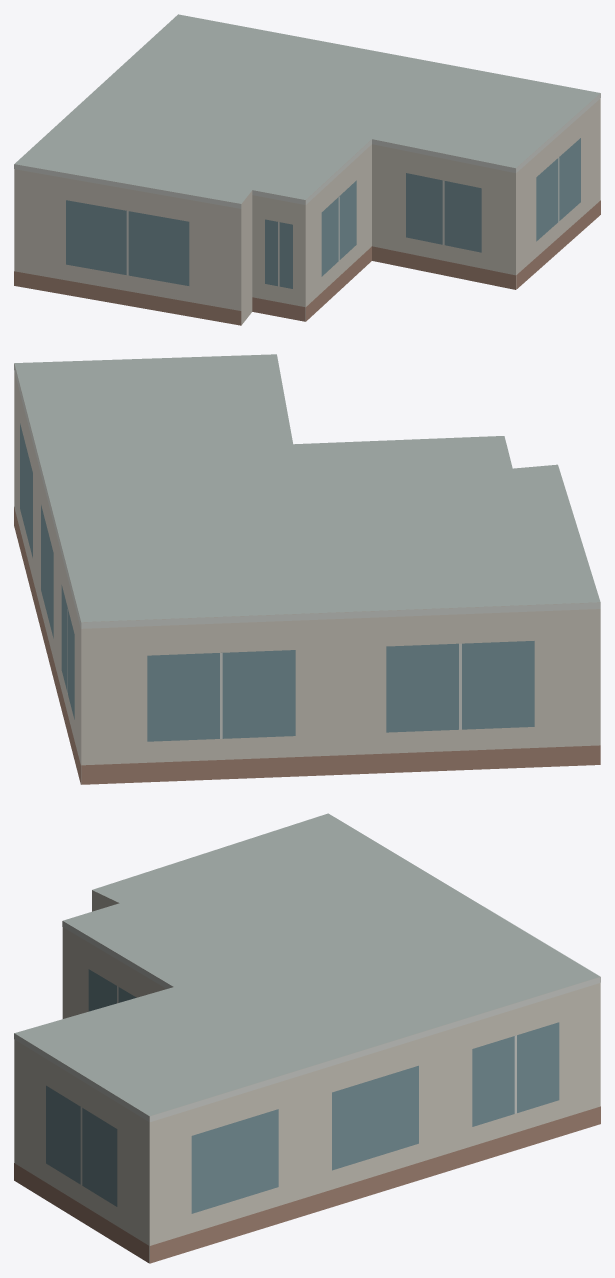
File: survey-upis-32725491.glb
3 views of the same model, one above another, from view 1: azimuth 30°, elevation 25°; view 2: azimuth 150°, elevation 25°; view 3: azimuth 270°, elevation 25° (orthographic). The views are drawn at different scales.
Visible parts, largest first — view 1: survey-upis-32725491.tmp; view 2: survey-upis-32725491.tmp; view 3: survey-upis-32725491.tmp.
Boxes of the visible parts, x1,y1,x2,y2 form: survey-upis-32725491.tmp: [14, 14, 600, 325]; survey-upis-32725491.tmp: [14, 354, 600, 784]; survey-upis-32725491.tmp: [14, 813, 600, 1263].
Size of the model in its own units: 13.47 by 3.05 by 11.02.
